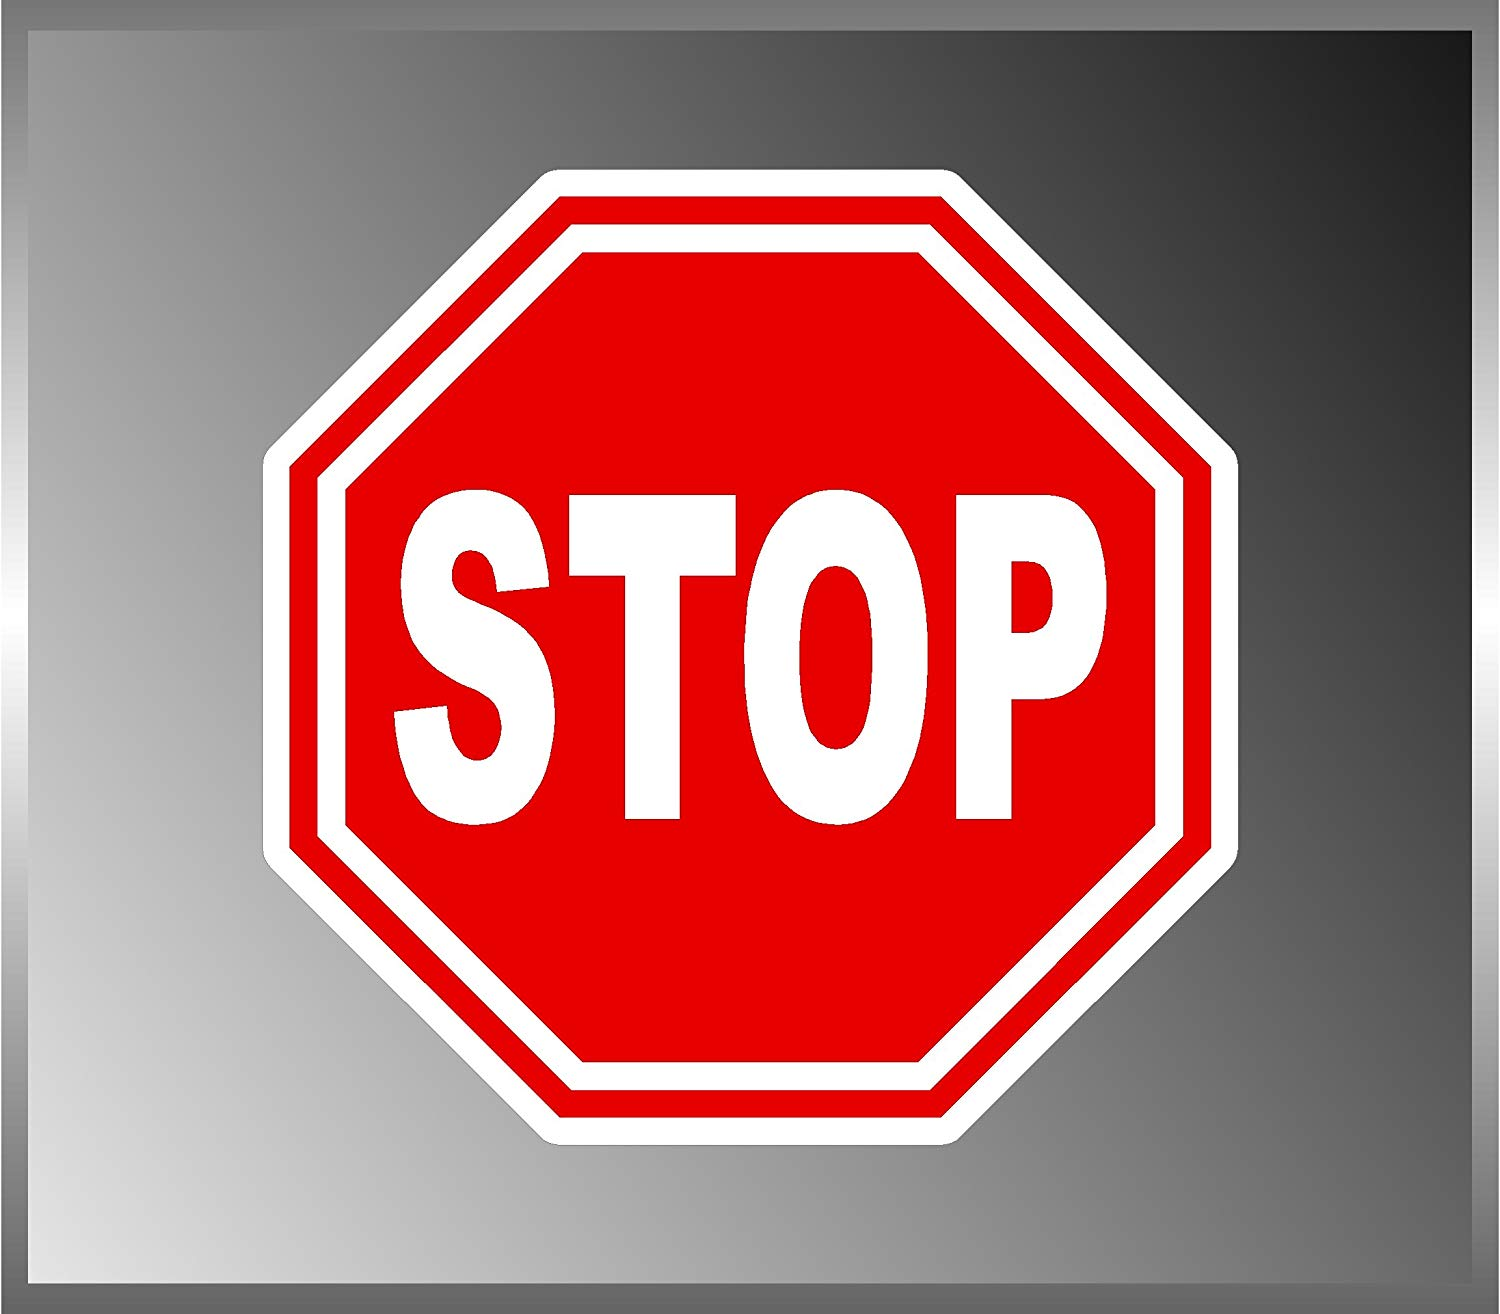stopsign: (259, 158, 1240, 1146)
